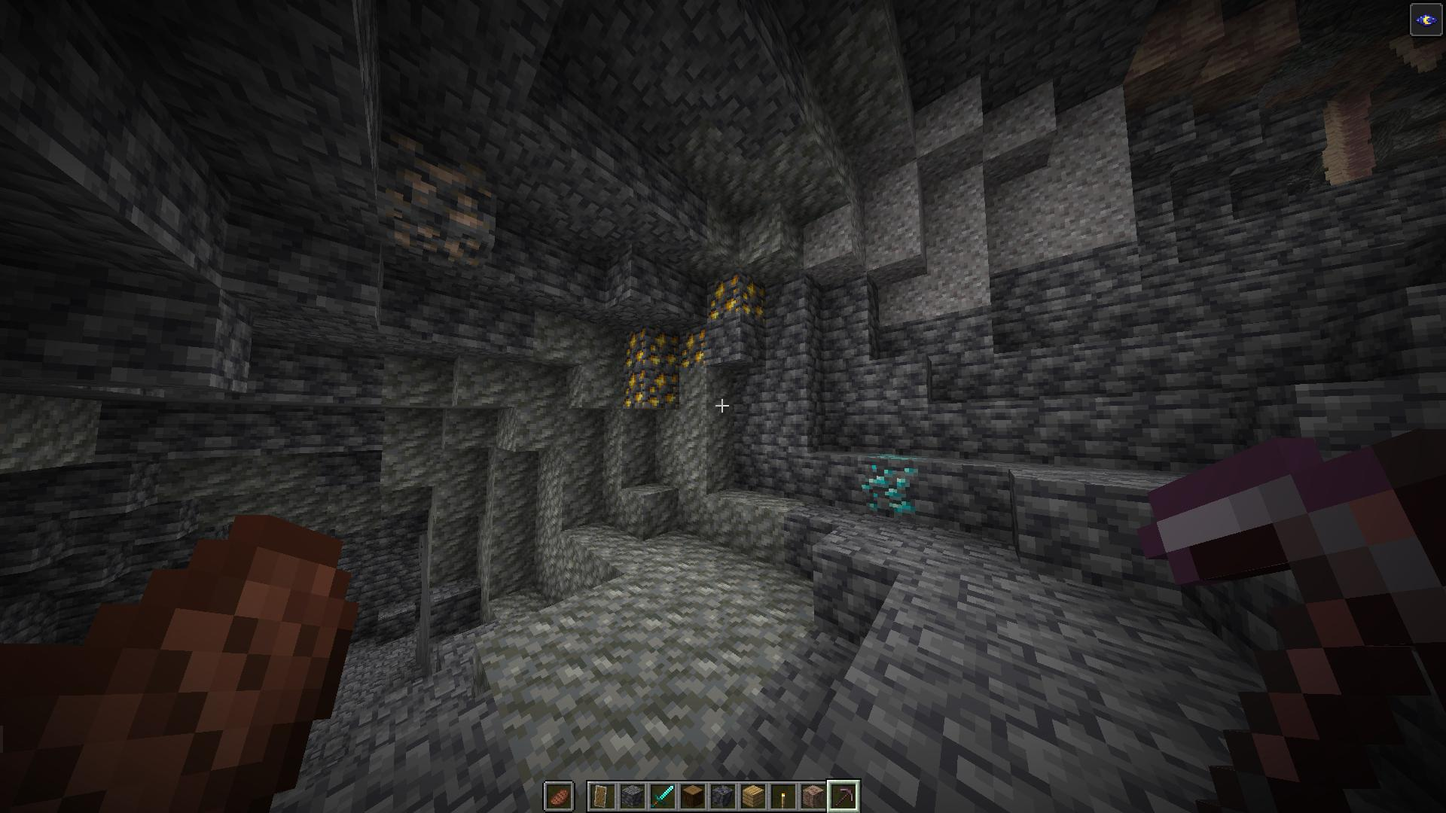diamond ore: (858, 451, 924, 525)
gold ore: (622, 327, 679, 412), (704, 268, 766, 329), (678, 326, 706, 368)
iron ore: (380, 125, 491, 282)
